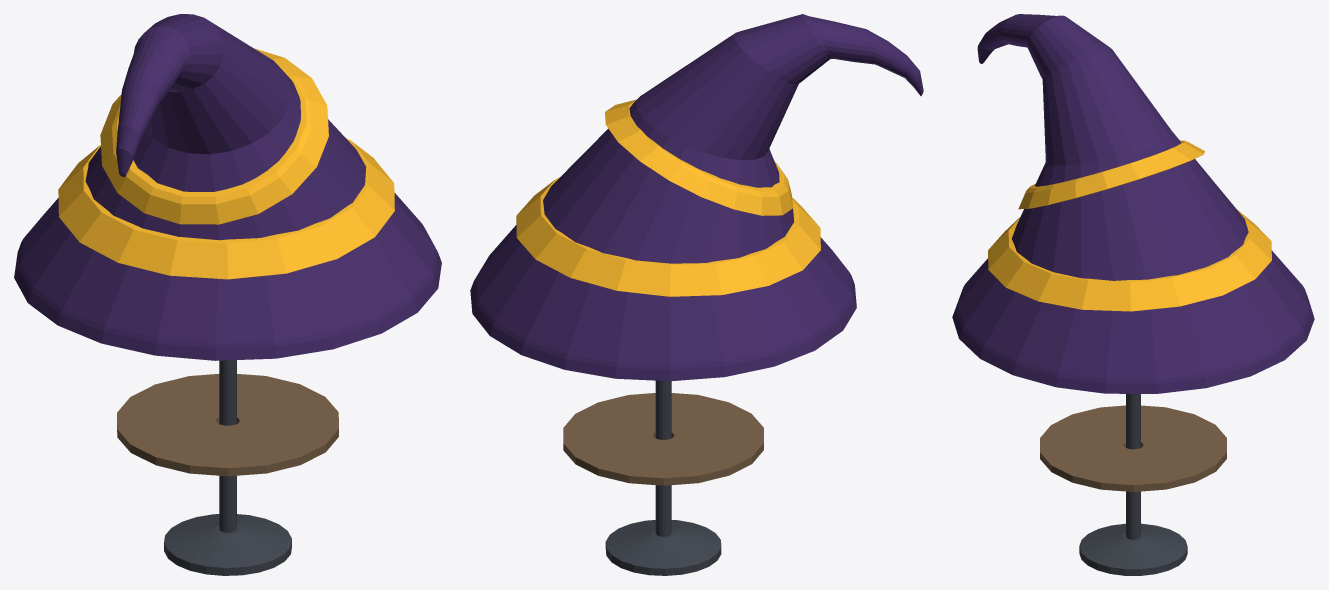
The model's file is WazardTable_Purple.fbx.
3 renders of one model, left to right at view 1: azimuth 30°, elevation 25°; view 2: azimuth 150°, elevation 25°; view 3: azimuth 270°, elevation 25°, orthographic. The views are drawn at different scales.
Parts seen in each view (by area): view 1: WazardTable_Purple; view 2: WazardTable_Purple; view 3: WazardTable_Purple.
Boxes of the visible parts, left/top/right/bottom form: WazardTable_Purple: left=14, top=14, right=441, bottom=575; WazardTable_Purple: left=470, top=14, right=923, bottom=575; WazardTable_Purple: left=952, top=14, right=1314, bottom=575.
Size of the model in its own units: 520 by 758 by 506.
